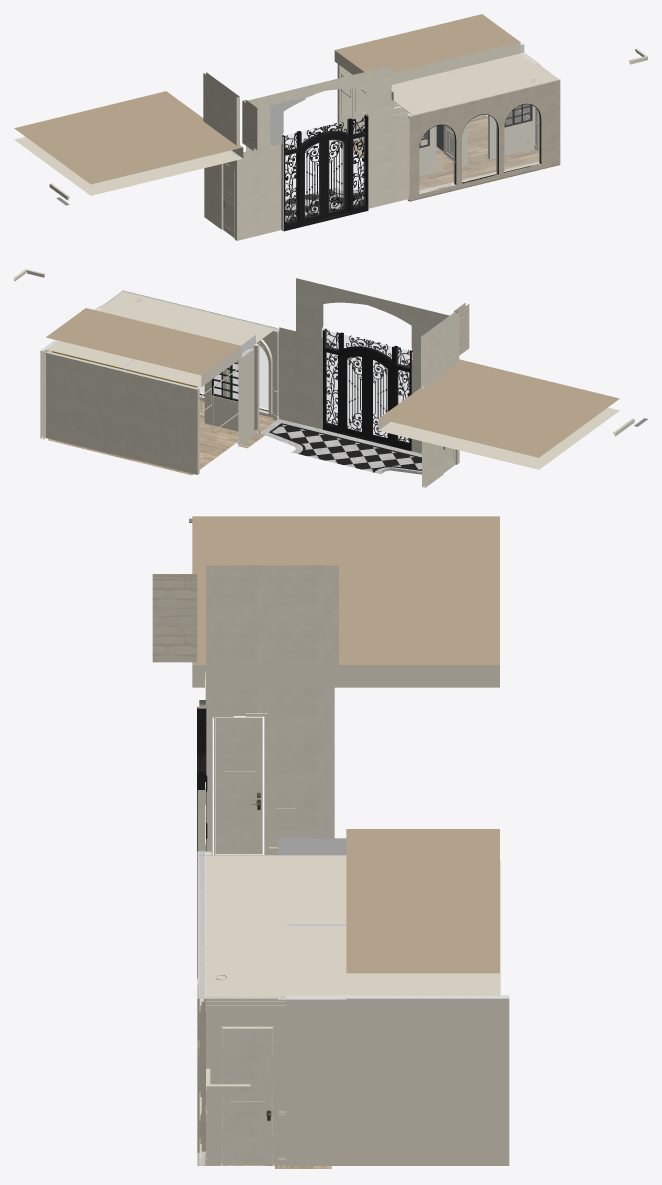
The model's file is office-hall-b01d2f14b5d5.glb.
3 views of the same model, one above another, from view 1: azimuth 30°, elevation 25°; view 2: azimuth 150°, elevation 25°; view 3: azimuth 270°, elevation 25° (orthographic). The views are drawn at different scales.
Parts seen in each view (by area): view 1: office-hall-look-2575515a05775d9e, office-hall-look-d5a4a1b5d3594c04, office-hall-c9e78b9ec1bb39cd, office-hall-dbd60ee5c3733ed6, office-hall-look-34525a54e63b733b, office-hall-look-bce662e26d5a5947, office-hall-38561c12898e4d43, office-hall-c02a36d0521470a9, office-hall-5cbcc744e6f960f3, office-hall-look-746250f96522f643, office-hall-look-dbd60ee5c3733ed6, office-hall-c374268555806af8 (+19 smaller); view 2: office-hall-look-2575515a05775d9e, office-hall-look-19647d6da46c2b80, office-hall-look-d5a4a1b5d3594c04, office-hall-look-34525a54e63b733b, office-hall-dbd60ee5c3733ed6, office-hall-look-e388ad8855329420, office-hall-look-3231f73bae020736, office-hall-look-bce662e26d5a5947, office-hall-look-746250f96522f643, office-hall-look-b3086b8cd368d7da, office-hall-look-26f615ec640e02ab, office-hall-look-6a051330000fbca1 (+18 smaller); view 3: office-hall-look-2575515a05775d9e, office-hall-look-6a1144f4e43410bb, office-hall-look-746250f96522f643, office-hall-look-85f0fd939e0fcc78, office-hall-dbd60ee5c3733ed6, office-hall-look-dbd60ee5c3733ed6, office-hall-cf6d22c5317ced0b, office-hall-look-3322bc58bedf5620, office-hall-68d06b361ac47823, office-hall-look-5e296beffb47d853, office-hall-c9e78b9ec1bb39cd, office-hall-look-bce662e26d5a5947.
Boxes of the visible parts, <box> form: office-hall-look-2575515a05775d9e: <box>14,14,520,195</box>; office-hall-look-d5a4a1b5d3594c04: <box>236,112,407,240</box>; office-hall-c9e78b9ec1bb39cd: <box>407,82,545,200</box>; office-hall-dbd60ee5c3733ed6: <box>392,63,559,115</box>; office-hall-look-34525a54e63b733b: <box>246,65,391,151</box>; office-hall-look-bce662e26d5a5947: <box>282,114,368,231</box>; office-hall-38561c12898e4d43: <box>419,125,454,191</box>; office-hall-c02a36d0521470a9: <box>462,115,497,180</box>; office-hall-5cbcc744e6f960f3: <box>504,104,539,170</box>; office-hall-look-746250f96522f643: <box>203,72,239,145</box>; office-hall-look-dbd60ee5c3733ed6: <box>391,44,540,100</box>; office-hall-c374268555806af8: <box>407,148,560,201</box>; office-hall-look-2575515a05775d9e: <box>46,308,619,469</box>; office-hall-look-19647d6da46c2b80: <box>46,351,199,474</box>; office-hall-look-d5a4a1b5d3594c04: <box>279,327,459,462</box>; office-hall-look-34525a54e63b733b: <box>296,278,449,361</box>; office-hall-dbd60ee5c3733ed6: <box>99,290,276,346</box>; office-hall-look-e388ad8855329420: <box>272,424,421,471</box>; office-hall-look-3231f73bae020736: <box>341,351,367,438</box>; office-hall-look-bce662e26d5a5947: <box>323,328,412,451</box>; office-hall-look-746250f96522f643: <box>421,311,459,388</box>; office-hall-look-b3086b8cd368d7da: <box>325,331,409,442</box>; office-hall-look-26f615ec640e02ab: <box>367,352,393,445</box>; office-hall-look-6a051330000fbca1: <box>238,347,253,445</box>; office-hall-look-2575515a05775d9e: <box>192,516,499,995</box>; office-hall-look-6a1144f4e43410bb: <box>285,995,509,1165</box>; office-hall-look-746250f96522f643: <box>206,565,338,664</box>; office-hall-look-85f0fd939e0fcc78: <box>206,687,334,854</box>; office-hall-dbd60ee5c3733ed6: <box>198,855,292,998</box>; office-hall-look-dbd60ee5c3733ed6: <box>278,838,346,999</box>; office-hall-cf6d22c5317ced0b: <box>222,1028,272,1164</box>; office-hall-look-3322bc58bedf5620: <box>215,716,262,854</box>; office-hall-68d06b361ac47823: <box>206,995,285,1165</box>; office-hall-look-5e296beffb47d853: <box>152,574,197,662</box>; office-hall-c9e78b9ec1bb39cd: <box>197,851,205,1151</box>; office-hall-look-bce662e26d5a5947: <box>197,707,206,977</box>.
Bounding box in the file's own units: 21.96 × 5.17 × 5.78.
Materials: 32 (7 with a texture image).
